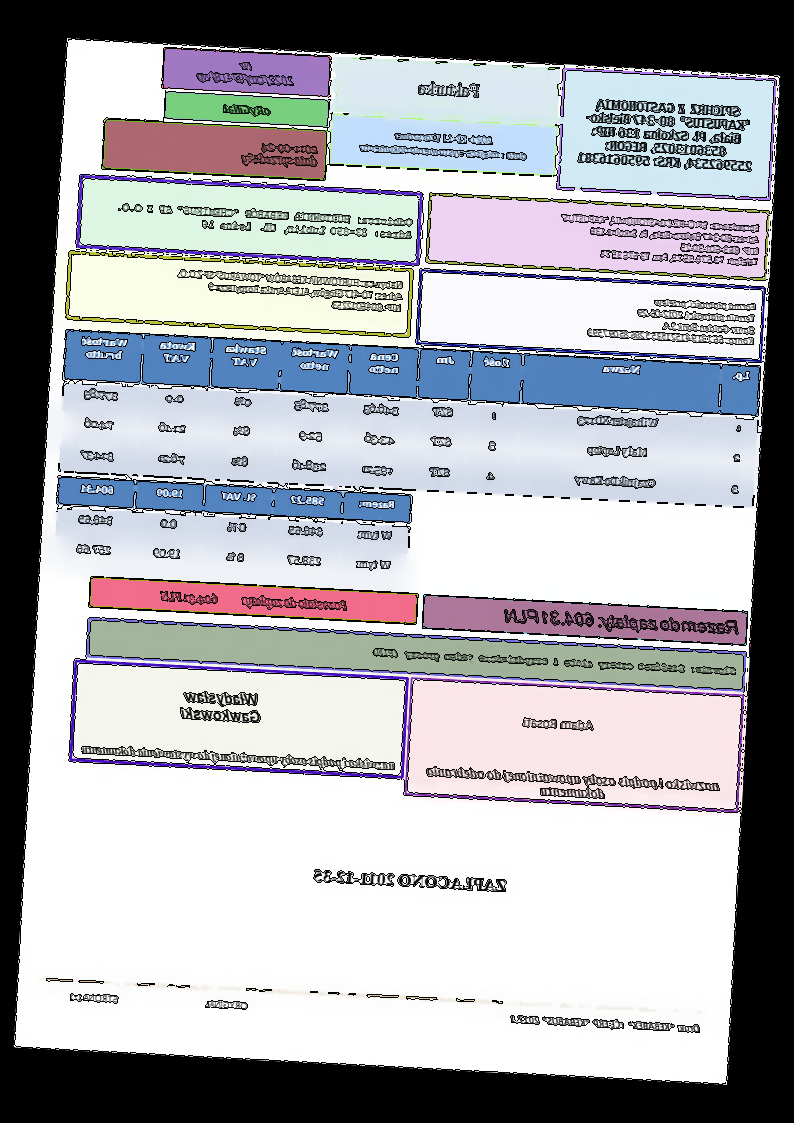Table: (58, 329, 761, 509), (53, 476, 412, 586)
TextBox: (576, 97, 758, 173), (114, 199, 414, 242), (425, 764, 723, 806), (369, 645, 739, 678), (556, 212, 762, 268), (174, 267, 405, 314), (79, 742, 397, 775), (585, 293, 758, 347), (499, 606, 743, 639), (358, 127, 532, 163), (310, 866, 509, 895), (158, 588, 351, 614), (508, 1012, 703, 1036), (195, 56, 300, 91), (179, 686, 263, 725), (239, 141, 321, 171), (416, 79, 482, 100), (522, 715, 597, 733), (220, 101, 274, 119), (68, 992, 121, 1006), (204, 998, 251, 1012)
